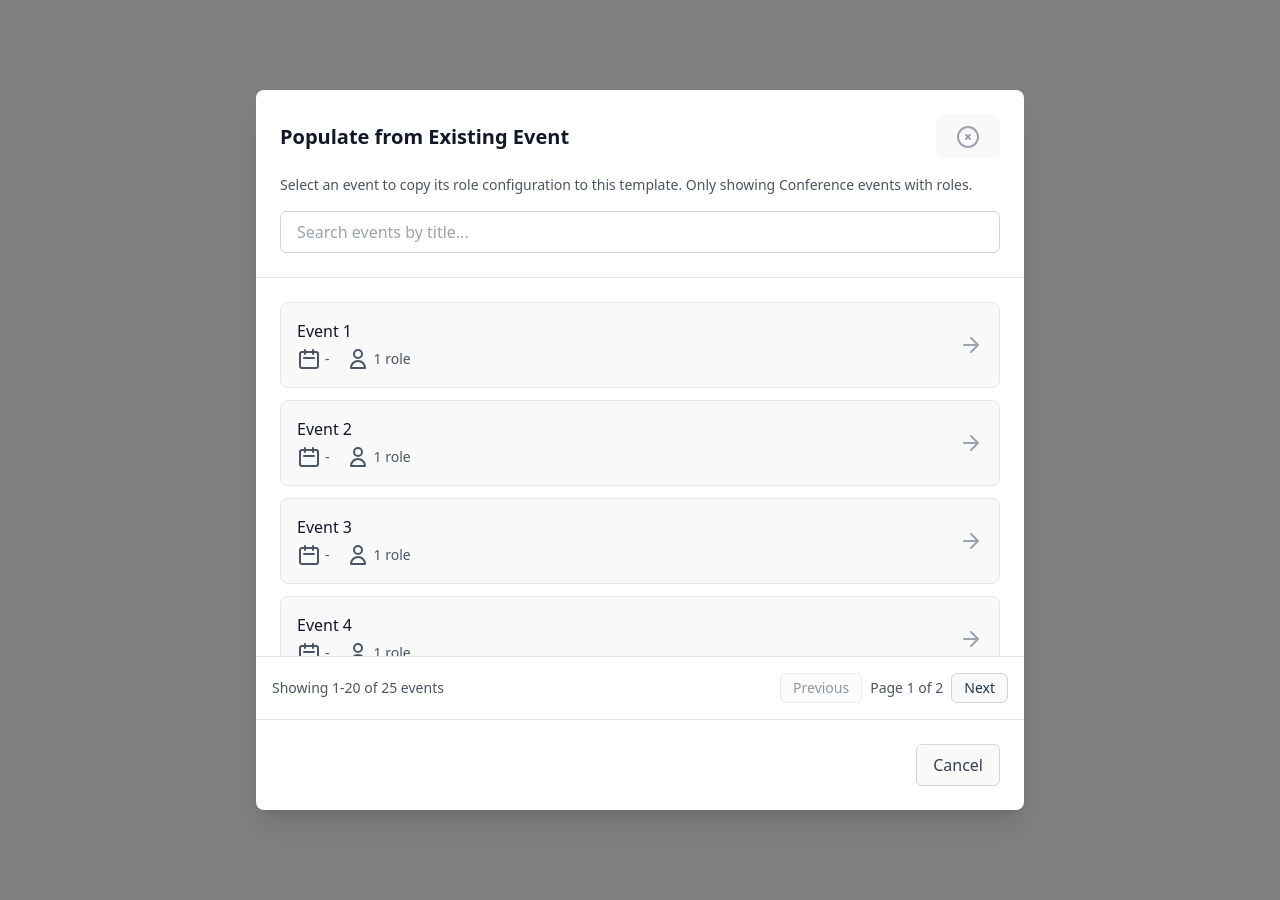
it: PopulateFromEventModal › handles pagination correctly
expect the heading "Event 1" is shown: met, box x1=297 y1=320 x2=352 y2=342
expect the text "Event 21" is not shown: met
Click the button "Next" at (980, 688), box x1=951 y1=673 x2=1008 y2=703
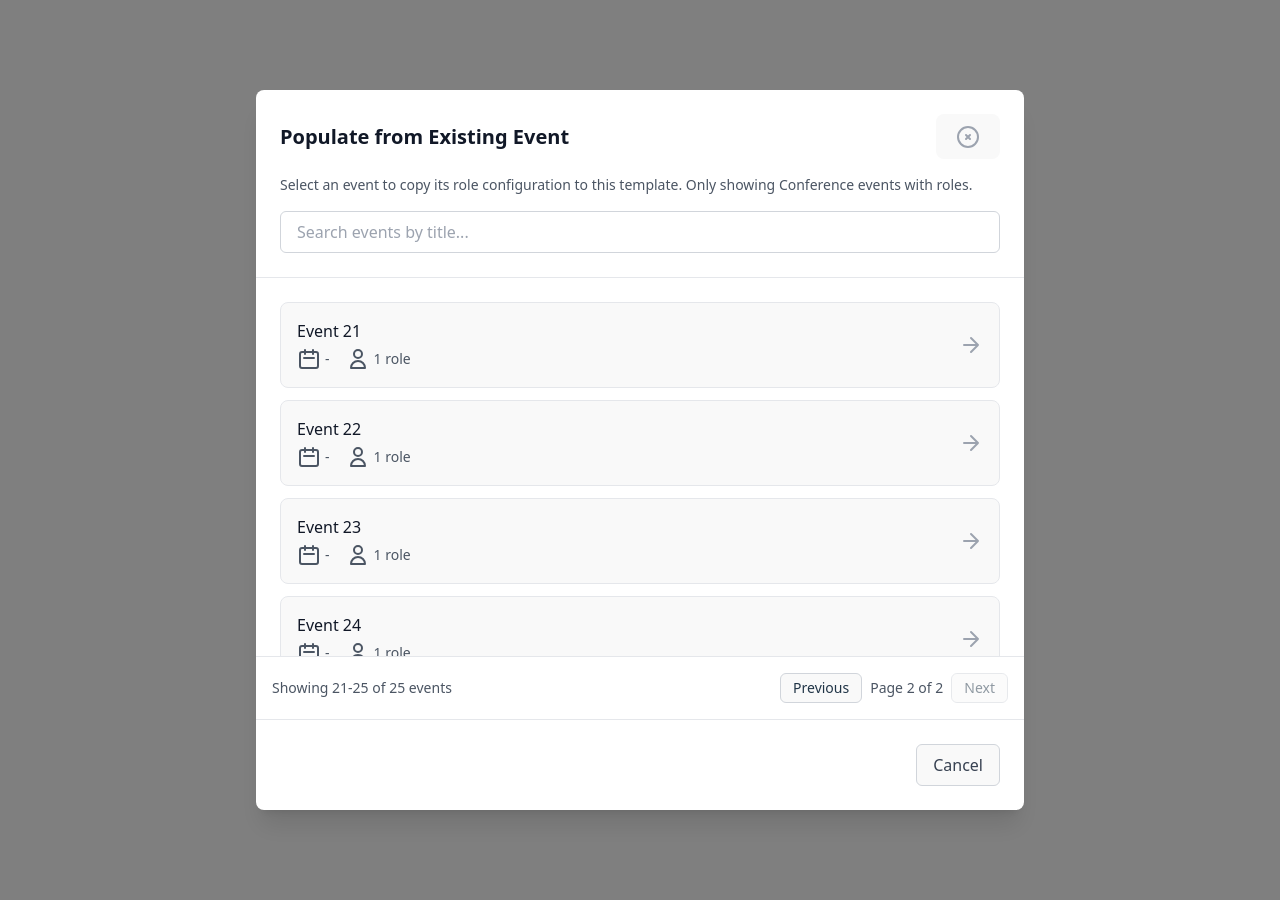
expect the heading "Event 21" is shown: met, box x1=297 y1=320 x2=361 y2=342
expect the button "Event 1" is gone: met
expect the text "Showing 21-25 of 25 events" is shown: met, box x1=272 y1=678 x2=452 y2=698
